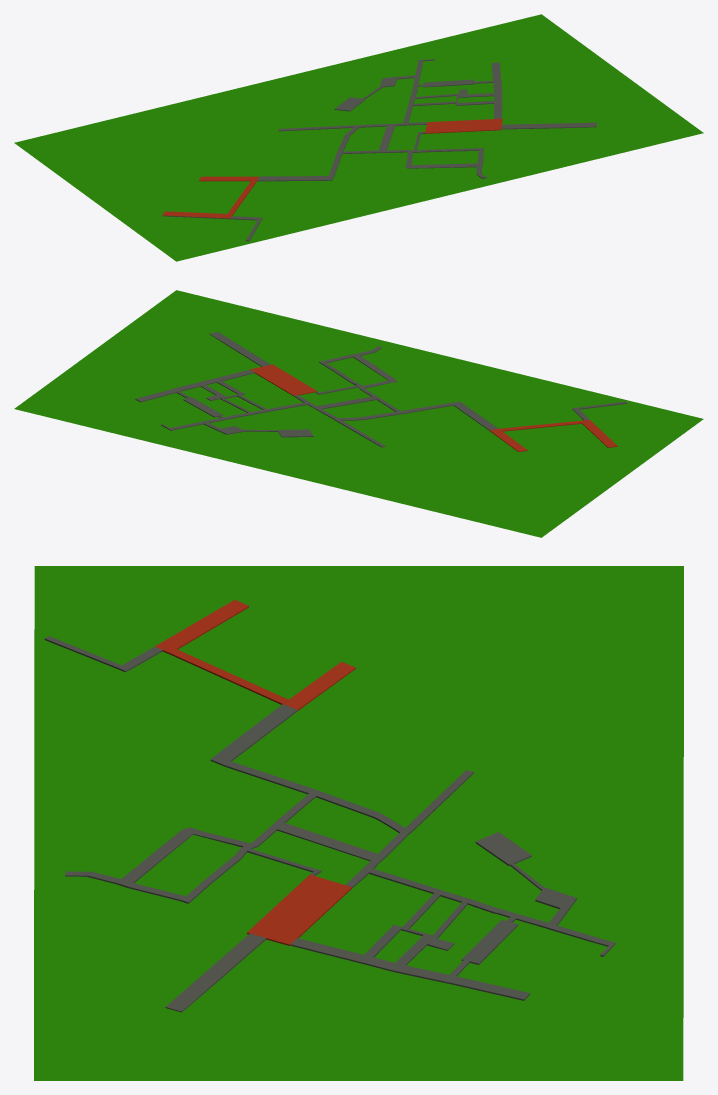
Rendered from caminoTESO.glb.
3 views of the same model, one above another, from view 1: azimuth 30°, elevation 25°; view 2: azimuth 150°, elevation 25°; view 3: azimuth 270°, elevation 25° (orthographic). The views are drawn at different scales.
Visible parts, largest first — view 1: Cube; view 2: Cube; view 3: Cube.
Boxes of the visible parts, <box> form: Cube: <box>14,14,703,261</box>; Cube: <box>14,290,703,537</box>; Cube: <box>34,566,683,1080</box>.
Bounding box in the file's own units: 19.19 × 0.0597 × 10.24.
